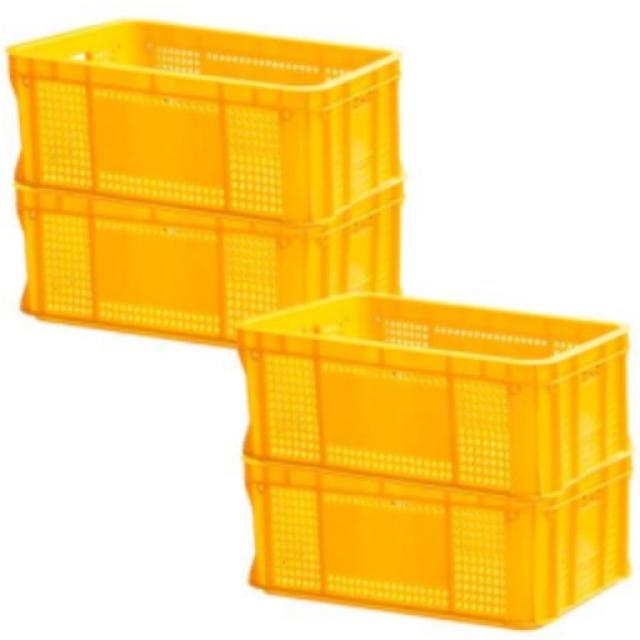basket: (0, 4, 417, 235), (16, 182, 402, 344)
